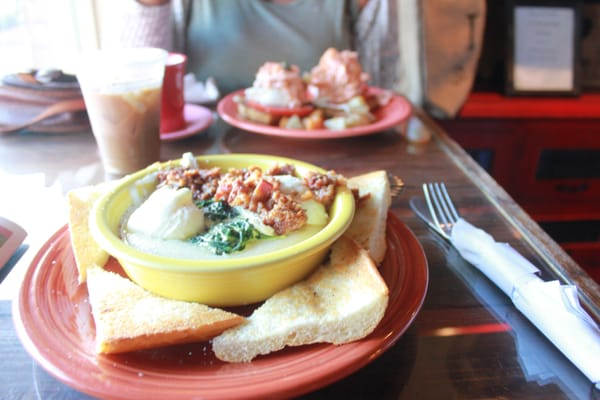burger: (412, 181, 599, 391)
pizza: (74, 46, 165, 181), (160, 50, 188, 134)
sandwich: (413, 181, 600, 395)
soup: (213, 234, 388, 363)
sushi: (87, 150, 354, 307)
